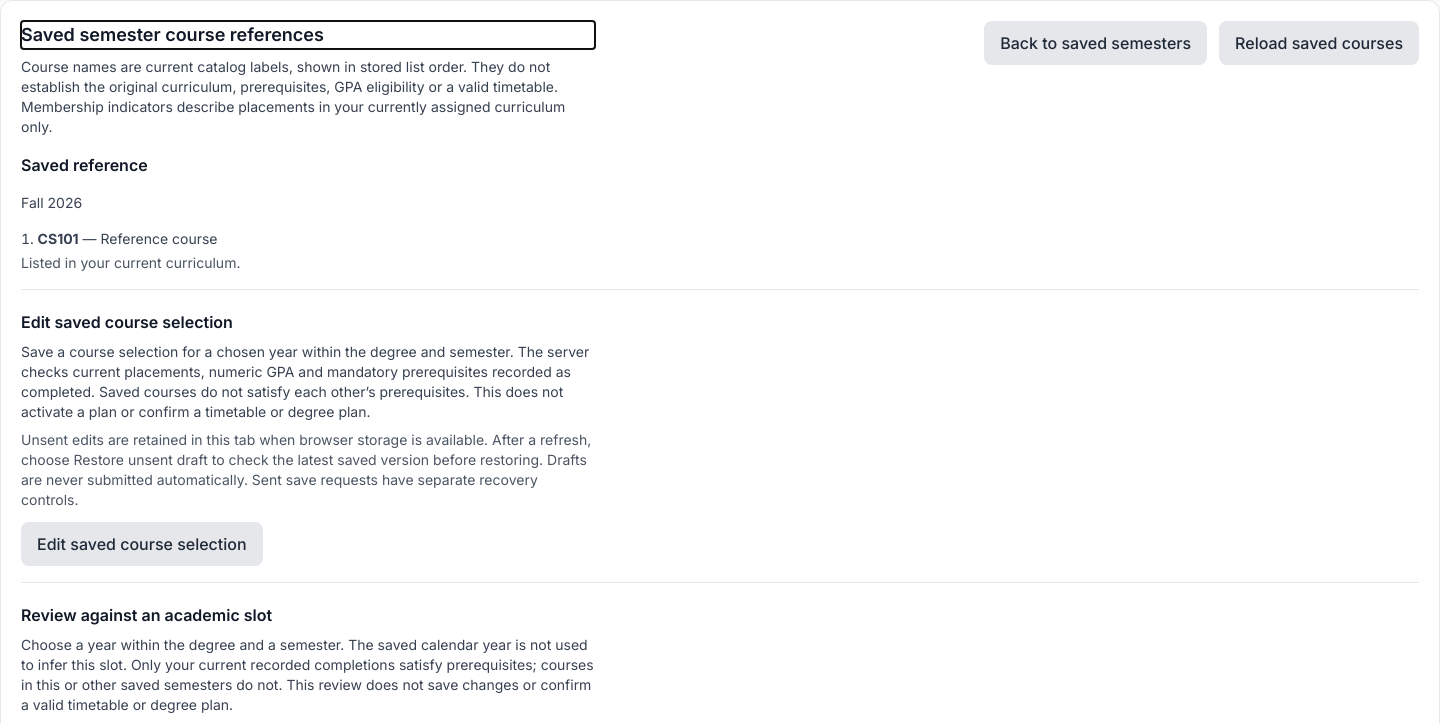
Test: saved semester course references › hides parent course evidence when a proposed-course check loses its session
Click the button "Edit saved course selection".
click(142, 544)  # box [21,522,263,566]
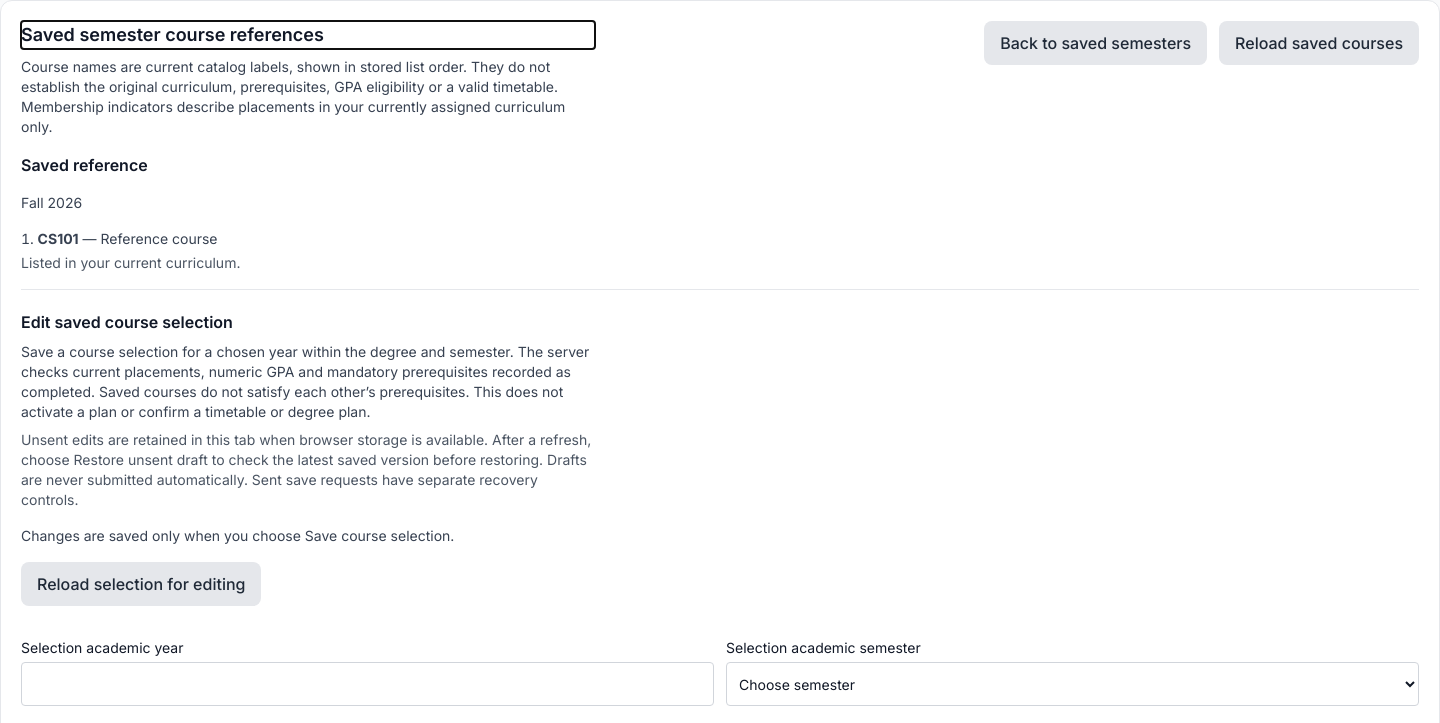
Type "2" into the number field labelled "Selection academic year".
click(368, 684); type("2")  # box [21,662,714,706]
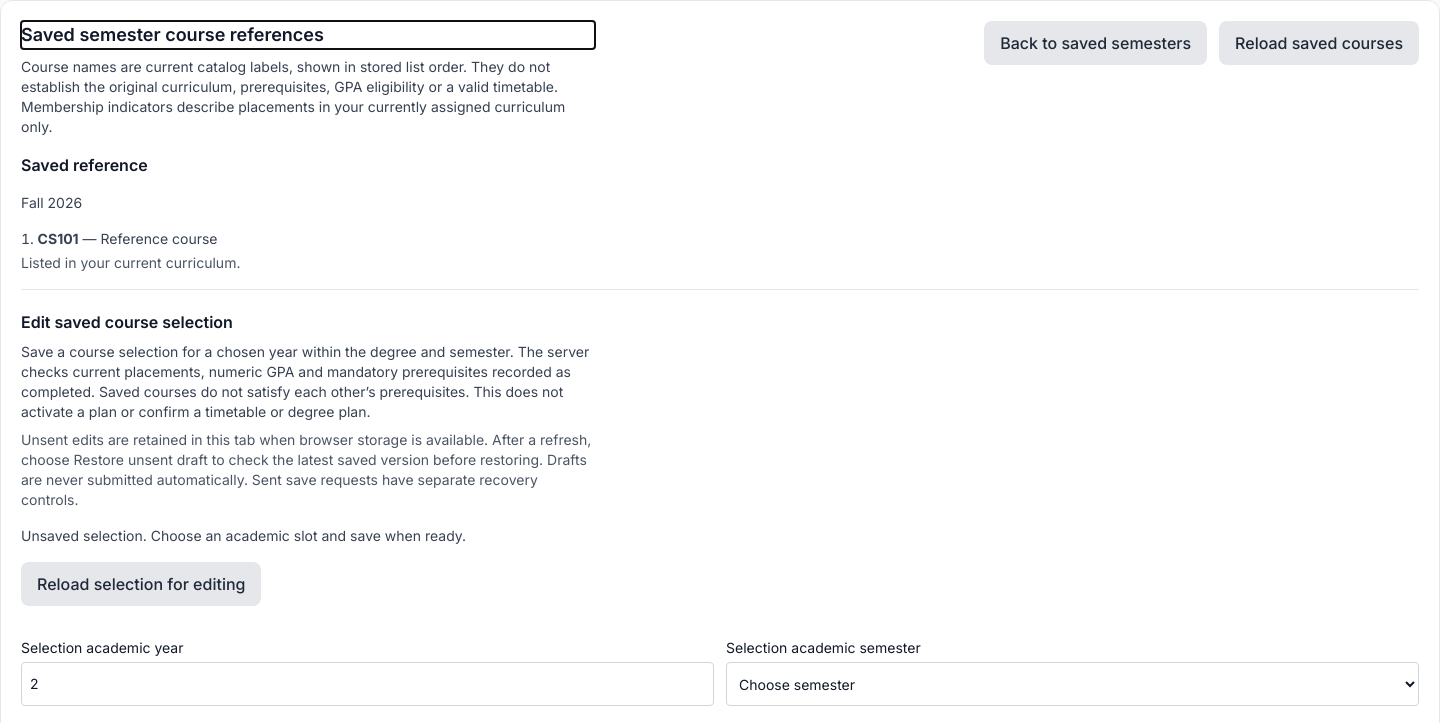
Select "Semester 1" in the dropdown labelled "Selection academic semester" at (1072, 684), box [726,662,1419,706]
(page scrolled)
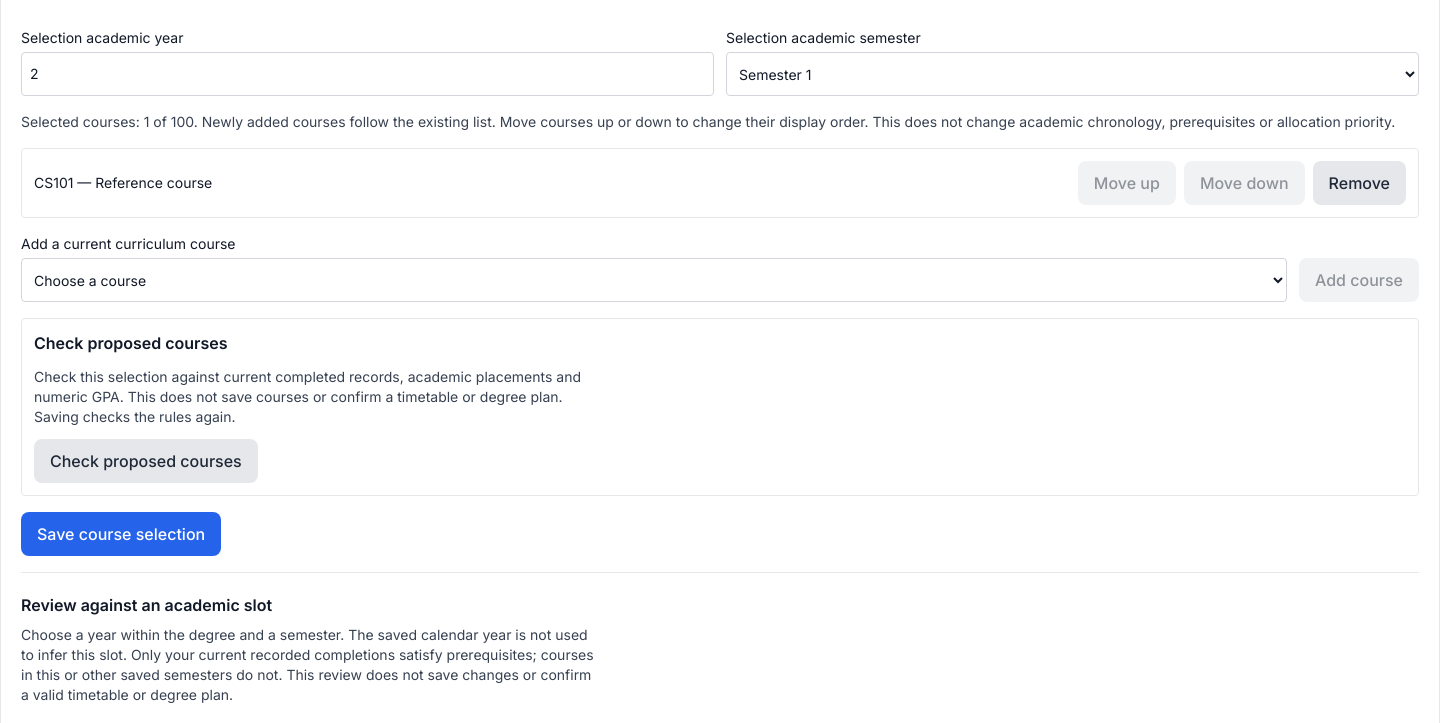
Click the button "Check proposed courses".
click(146, 461)  # box [34,439,258,483]
(page scrolled)
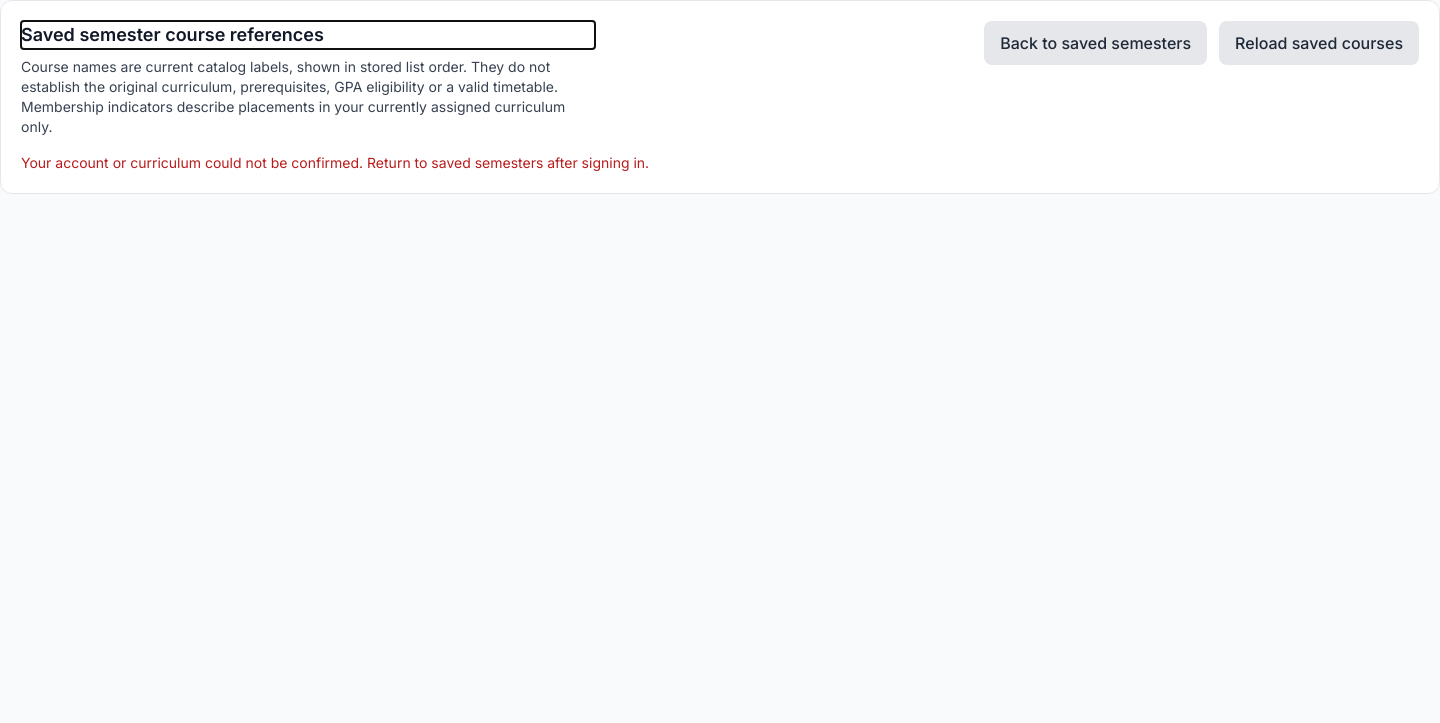
Expected: the text "Your account or curriculum could not be confirmed" is shown, [21,154,649,171]
Expected: the text "CS101" is gone
